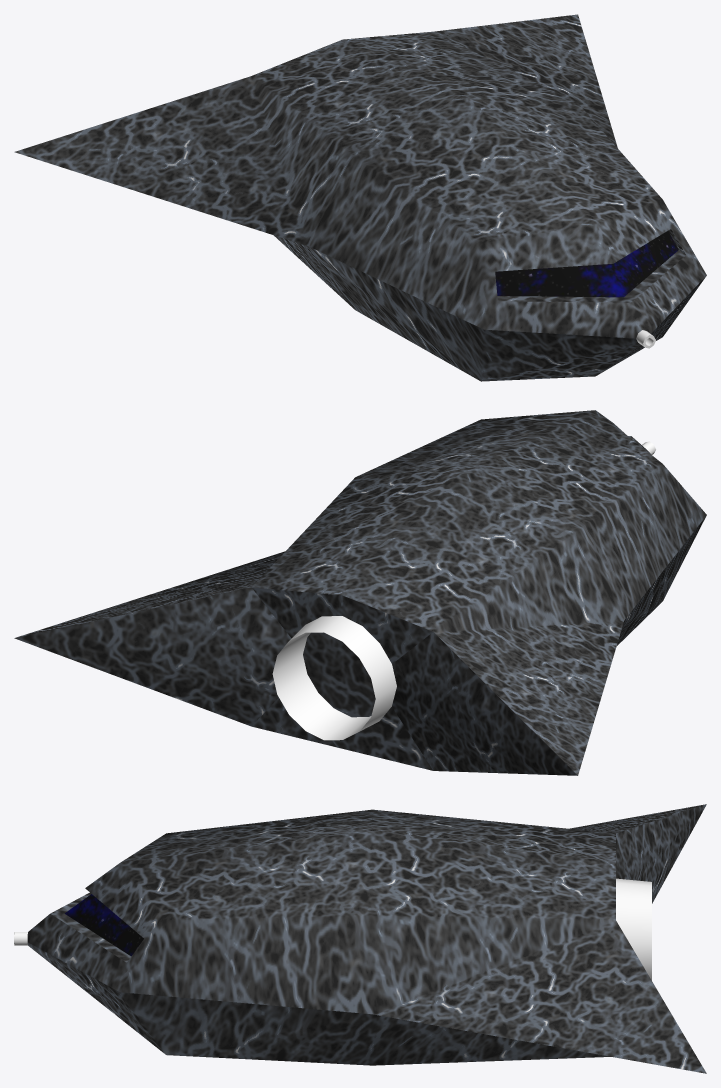
The model's file is jaguar_company_ship_splinter.obj.
The picture shows the model from 3 angles, top to bottom: view 1: azimuth 30°, elevation 25°; view 2: azimuth 150°, elevation 25°; view 3: azimuth 270°, elevation 25°; orthographic projection. The views are drawn at different scales.
Parts seen in each view (by area): view 1: jaguar_company_ship_splinter; view 2: jaguar_company_ship_splinter; view 3: jaguar_company_ship_splinter.
Boxes of the visible parts, x1,y1,x2,y2 form: jaguar_company_ship_splinter: (14,14,706,381); jaguar_company_ship_splinter: (14,410,706,775); jaguar_company_ship_splinter: (14,804,706,1073).
Size of the model in its own units: 35 by 11 by 38.
1 material, 1 textured.
